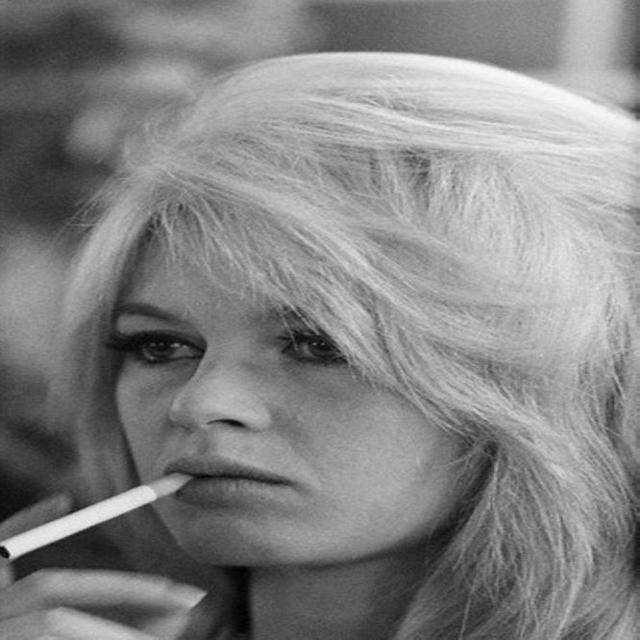cigarette: (0, 453, 242, 583)
